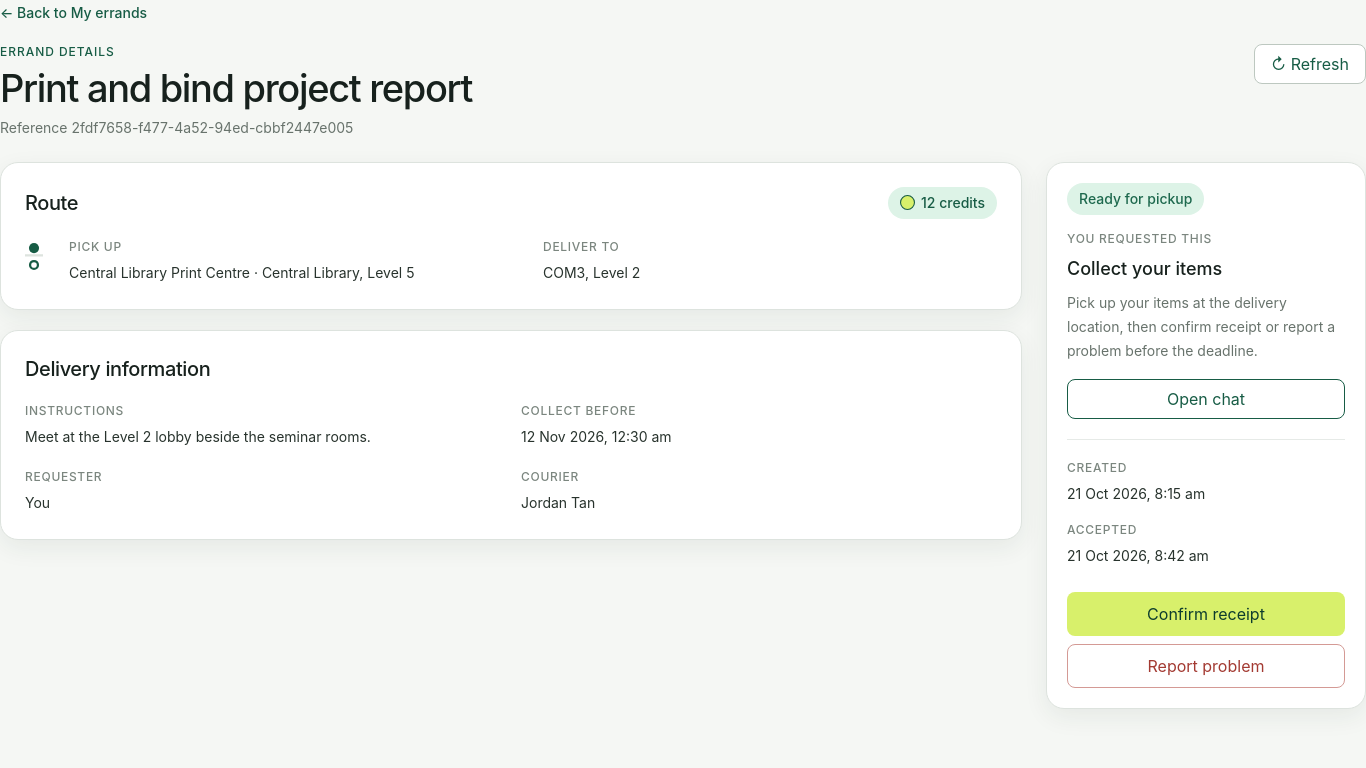
Test: ErrandDetailsPage › keeps the dialog open after a retryable service error
Click the button "Confirm receipt": x=1206, y=614 [1067,592,1345,636]
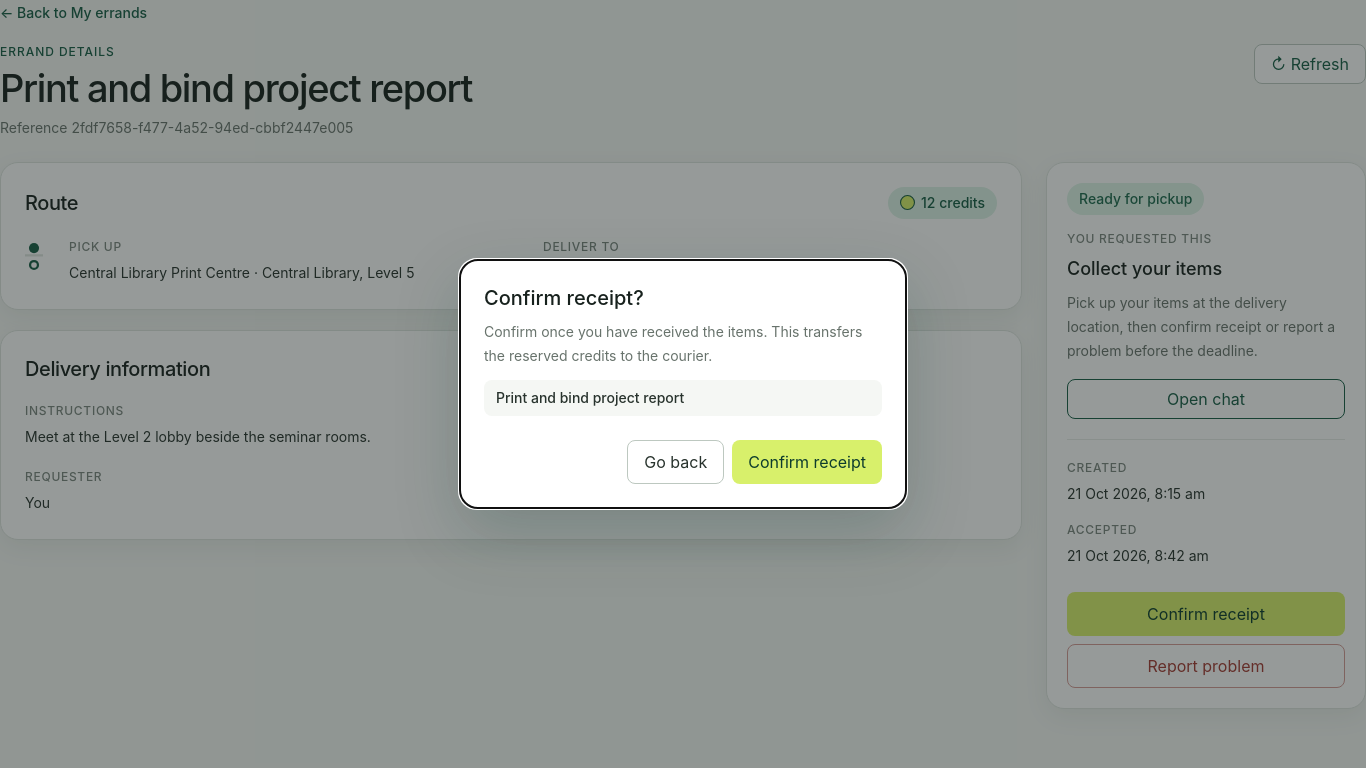
Click the button "Confirm receipt": x=807, y=462 [732,440,882,484]
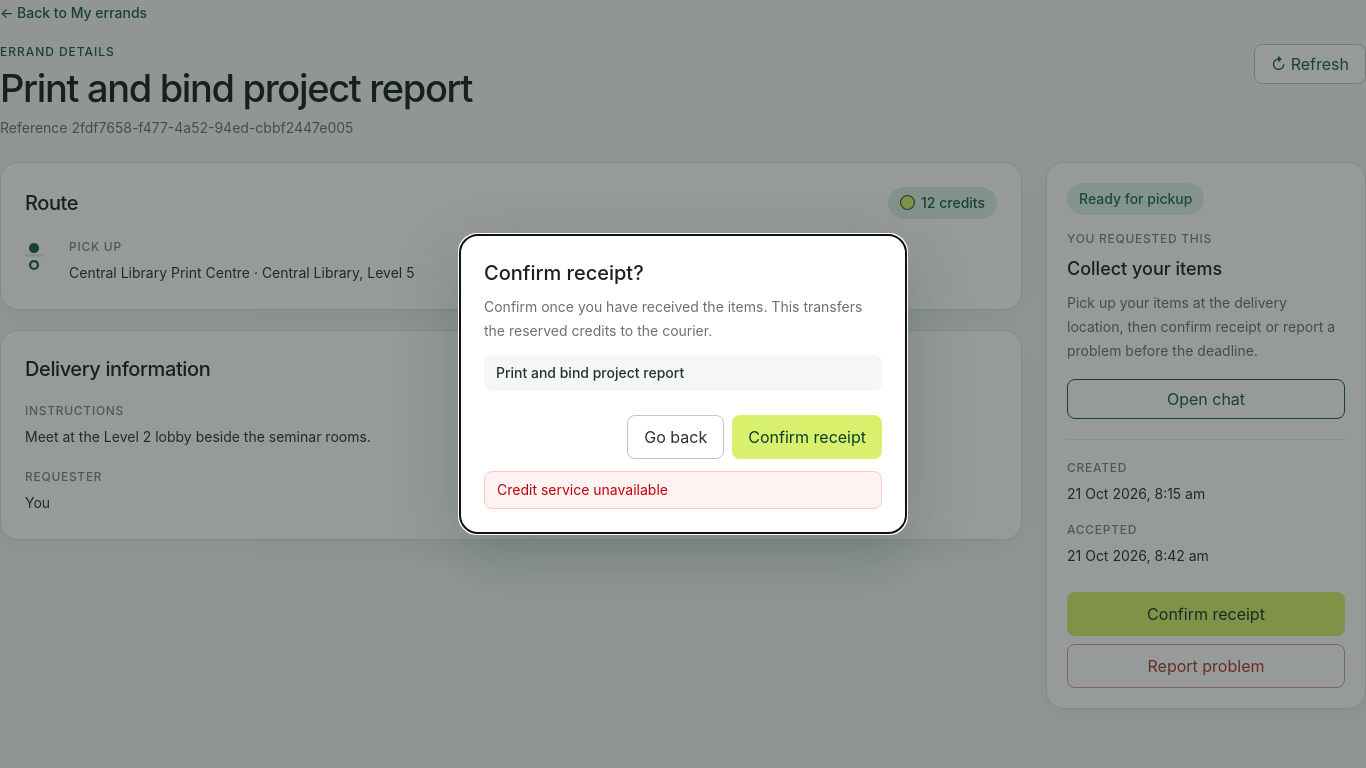
Now the dialog "Confirm receipt?" is shown, box [459,234,907,534]
Now the message reads "Credit service unavailable", box [497,481,668,498]
